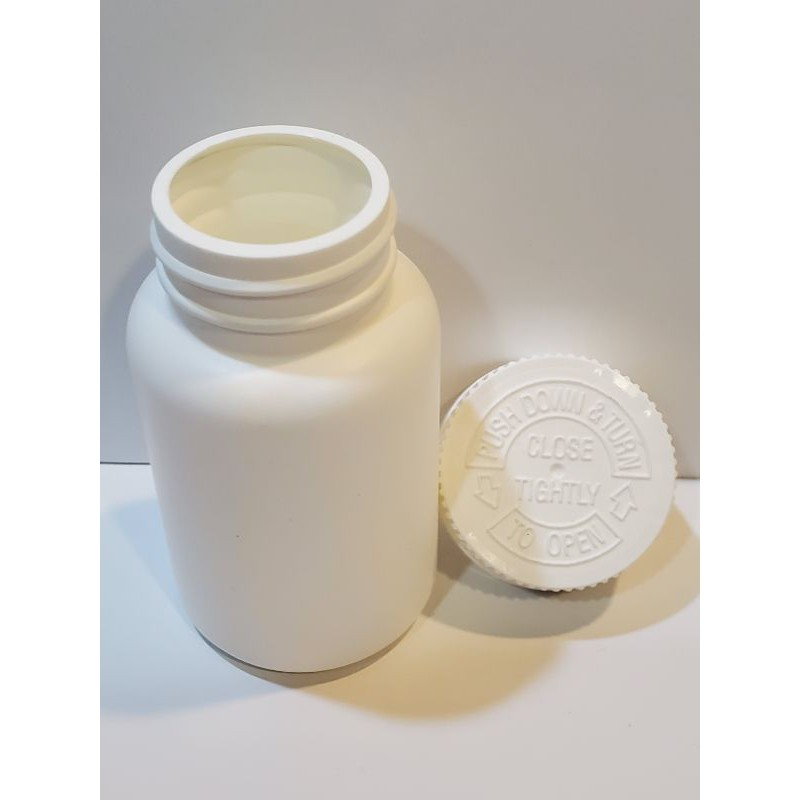medicinejar: (127, 113, 678, 691)
